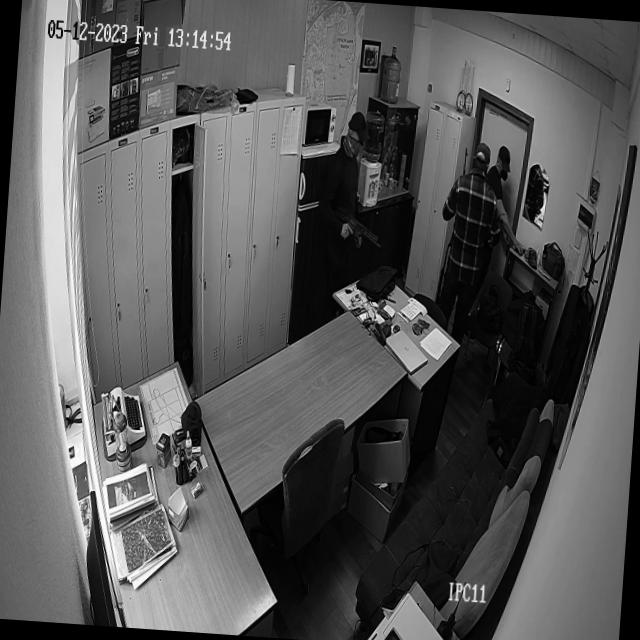gun: (336, 207, 382, 247), (462, 147, 468, 174)
person: (492, 137, 516, 188)
person with a gun: (314, 83, 386, 320), (440, 133, 497, 324)
